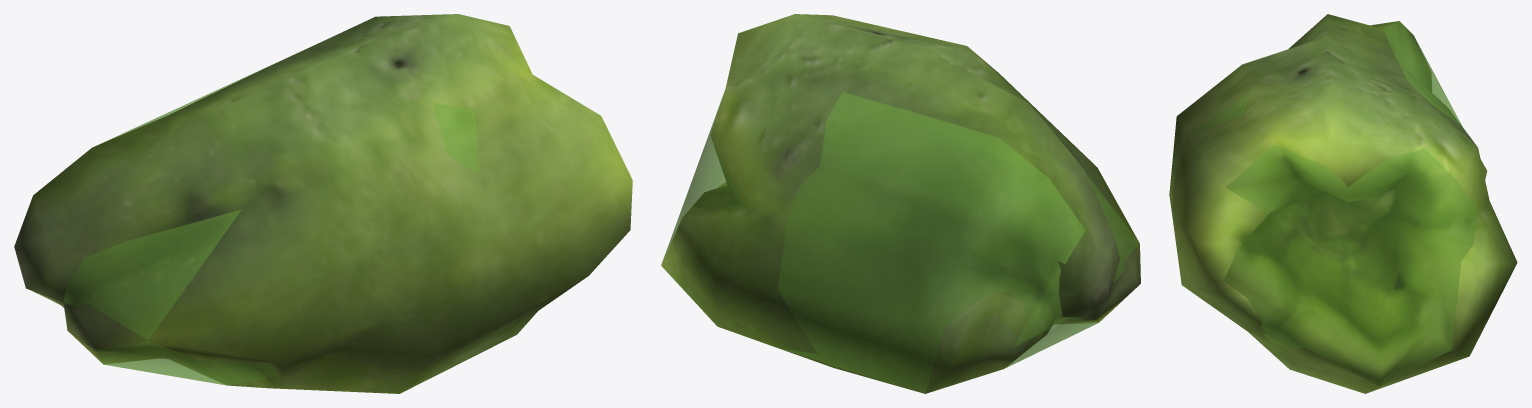
File: pg_Pepper_01_a.fbx
3 renders of one model, left to right at view 1: azimuth 30°, elevation 25°; view 2: azimuth 150°, elevation 25°; view 3: azimuth 270°, elevation 25°, orthographic. The views are drawn at different scales.
Visible parts, largest first — view 1: pg_Pepper_01_a_LOD0, pg_Pepper_01_a_col; view 2: pg_Pepper_01_a_LOD0, pg_Pepper_01_a_col; view 3: pg_Pepper_01_a_LOD0, pg_Pepper_01_a_col.
Part boxes in pixels (x1,y1,x2,y2): pg_Pepper_01_a_LOD0: (14, 14, 632, 393); pg_Pepper_01_a_col: (63, 49, 479, 385); pg_Pepper_01_a_LOD0: (661, 14, 1140, 393); pg_Pepper_01_a_col: (662, 92, 1139, 393); pg_Pepper_01_a_LOD0: (1169, 14, 1517, 393); pg_Pepper_01_a_col: (1190, 21, 1478, 385).
Size of what is drawn, in the model's own units: 14.41 by 9.58 by 9.96.
